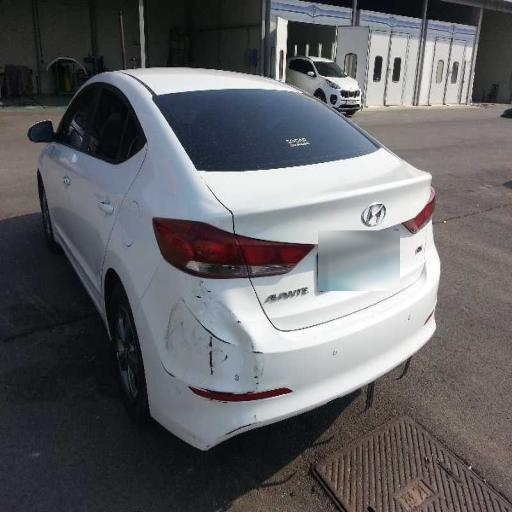dent: (170, 278, 286, 412)
